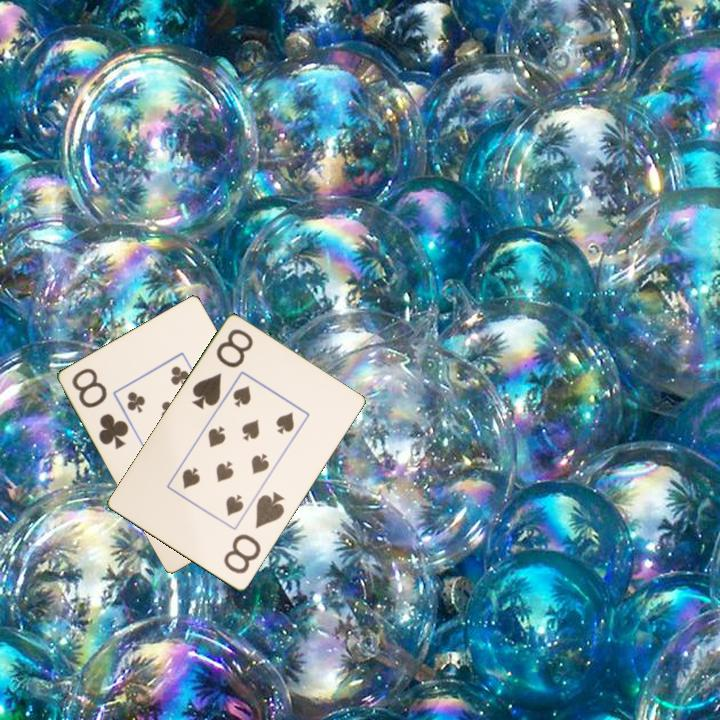8c: (68, 364, 132, 452)
8s: (220, 488, 288, 577), (188, 325, 256, 412)
